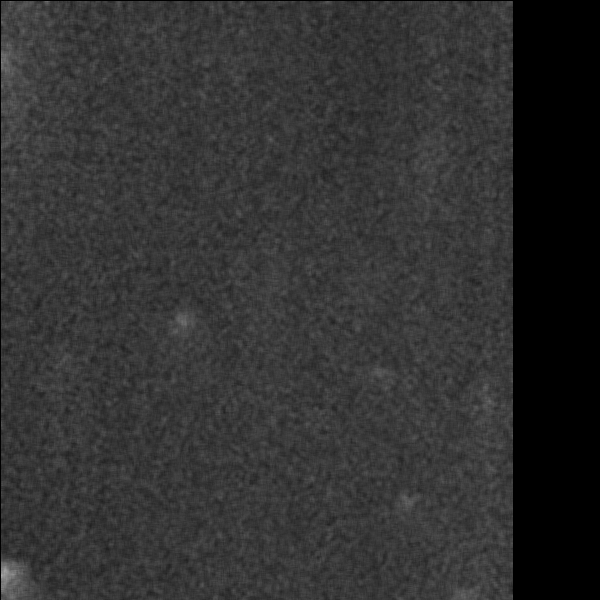spark: (391, 490, 424, 532), (171, 306, 190, 352), (445, 580, 481, 599), (1, 559, 11, 597)
